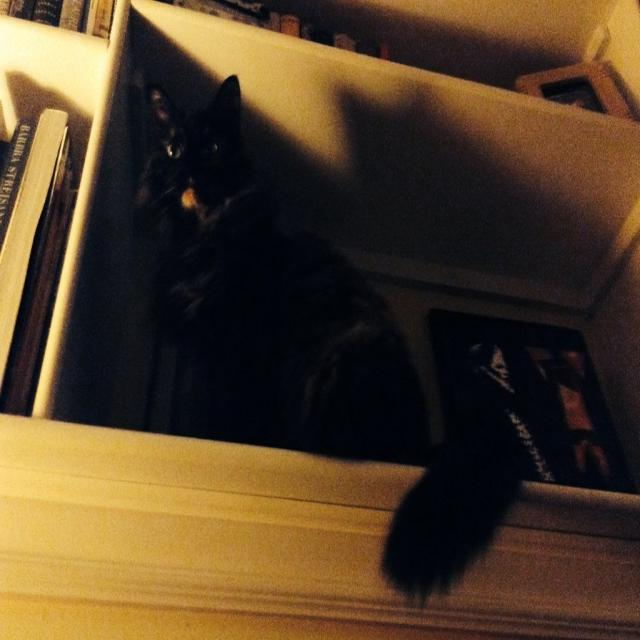Cat: (135, 68, 532, 605)
